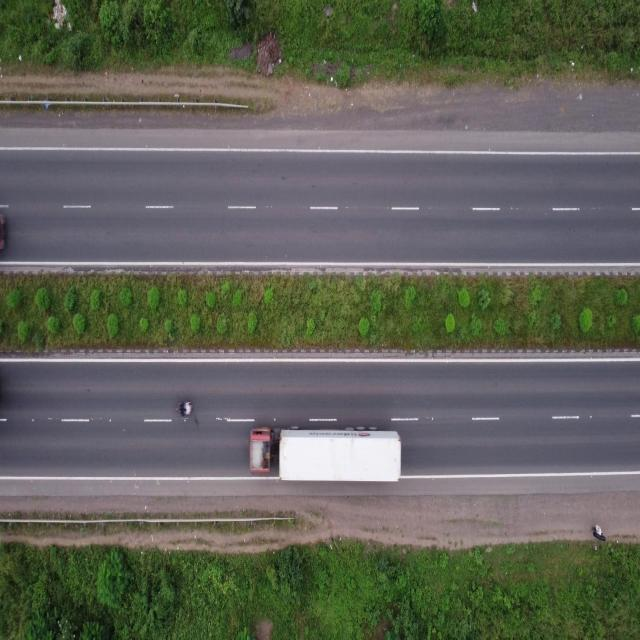Truck: (245, 425, 404, 486)
